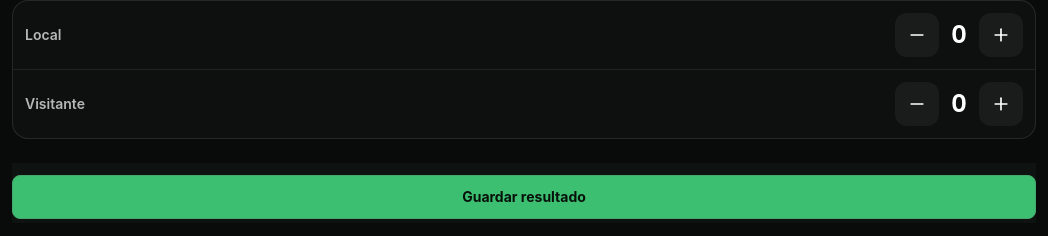
match management forms › shows a toast after saving a match result
Click the button named "Sumar gol local": click(1001, 35) [979,13,1023,57]
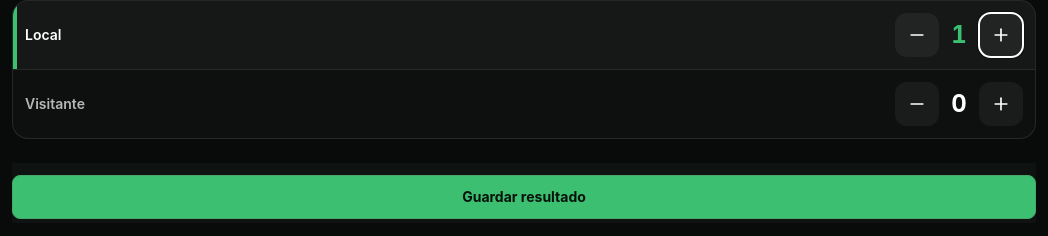
Click the button named "Sumar gol local": click(1001, 35) [979,13,1023,57]
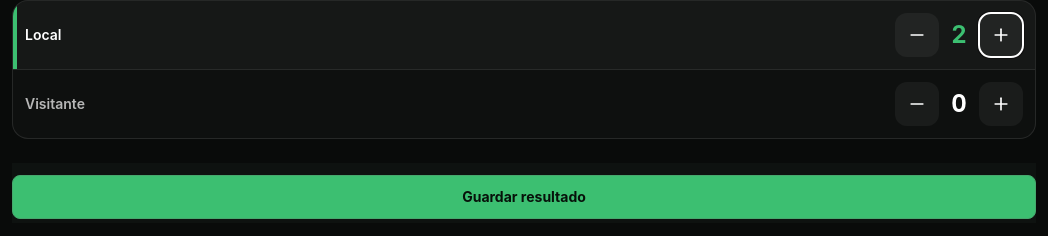
Click the button named "Sumar gol visitante": click(1001, 104) [979,82,1023,126]
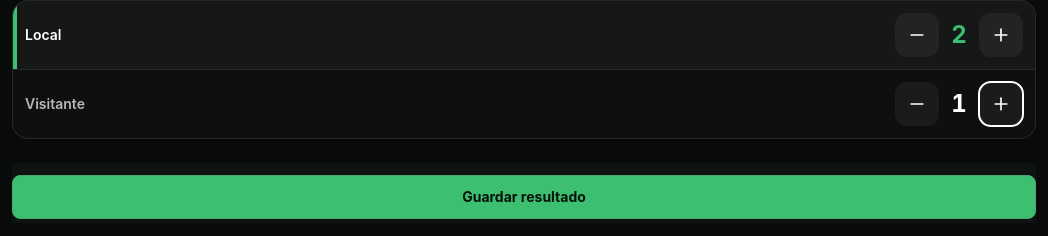
Click the button "Guardar resultado": click(524, 197) [12,175,1036,219]
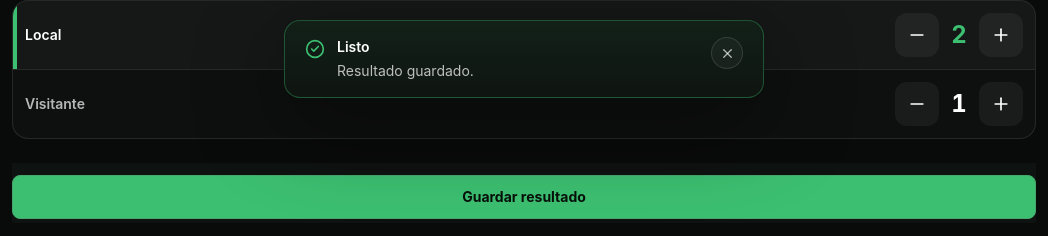
Result: the text "Resultado guardado." is shown at [337,62,474,79]
